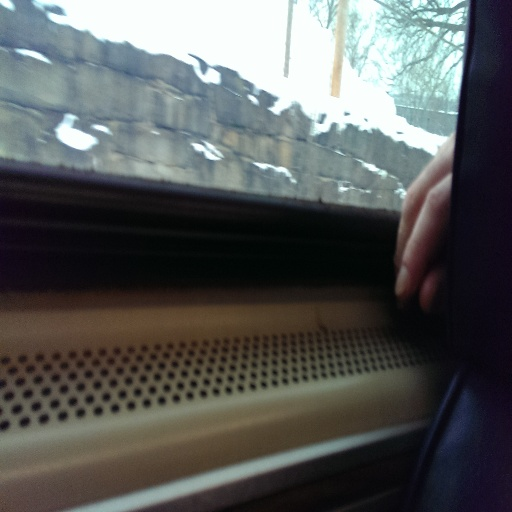hand: (348, 119, 468, 365)
